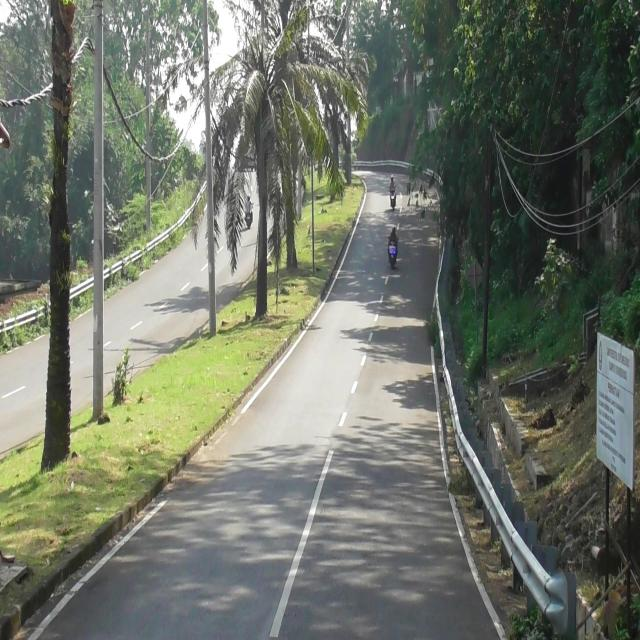motorcycle: (389, 241, 397, 269), (389, 189, 397, 210), (245, 211, 253, 229)
person: (389, 225, 398, 244), (387, 174, 396, 192), (246, 192, 253, 215)
rider_region: (388, 224, 398, 268), (244, 192, 253, 228), (388, 175, 396, 210)
